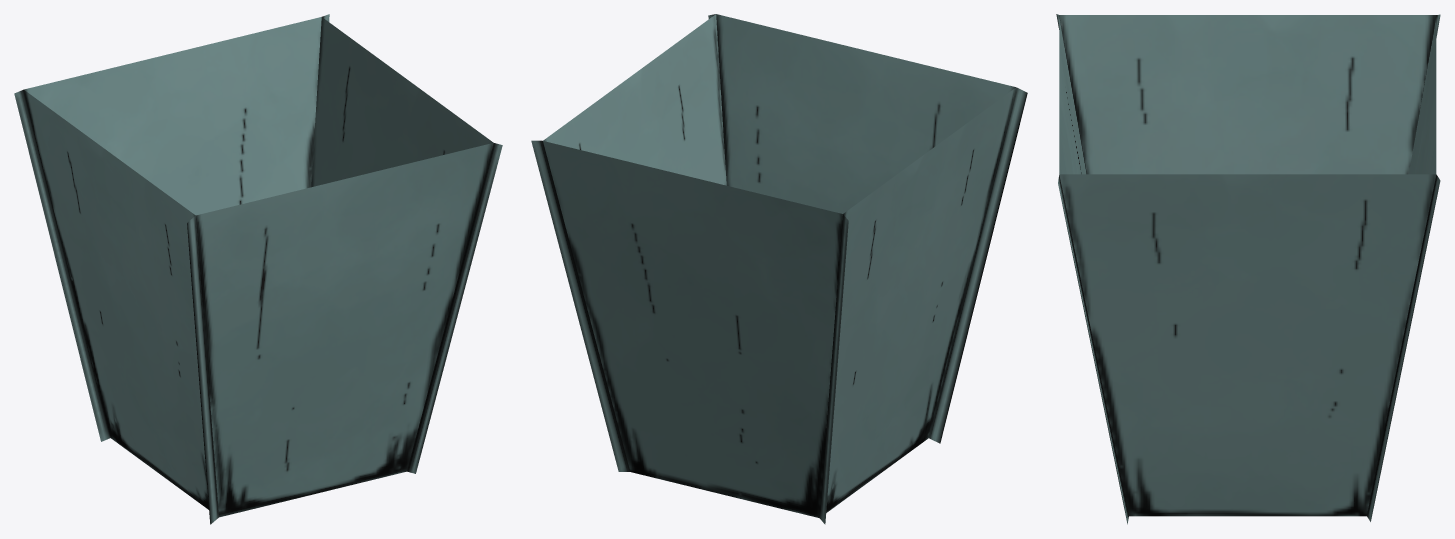
The model's file is Dustbin.fbx.
3 views of the same model, side by side, from view 1: azimuth 30°, elevation 25°; view 2: azimuth 150°, elevation 25°; view 3: azimuth 270°, elevation 25° (orthographic). The views are drawn at different scales.
Visible parts, largest first — view 1: Dustbin; view 2: Dustbin; view 3: Dustbin.
Part boxes in pixels (box(x1,y1,x2,y2)): Dustbin: box(14, 14, 502, 524); Dustbin: box(531, 14, 1027, 524); Dustbin: box(1056, 14, 1440, 524).
Bounding box in the file's own units: 65.06 × 67.03 × 62.13.
